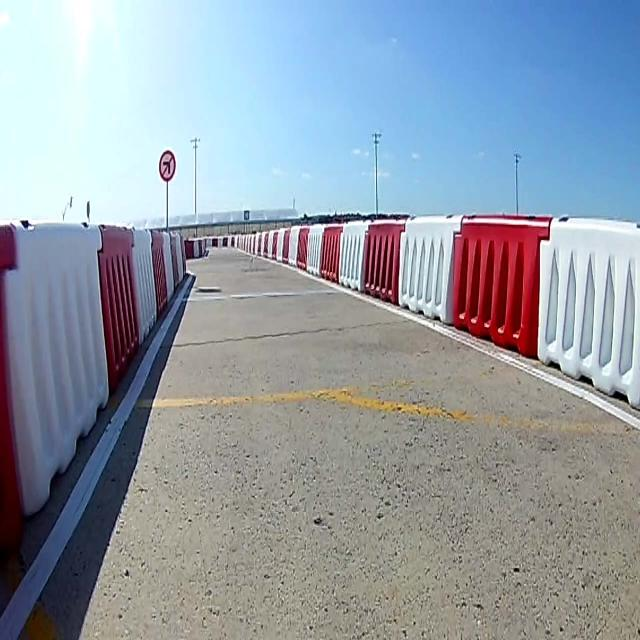soladonulmez: (158, 147, 176, 180)
